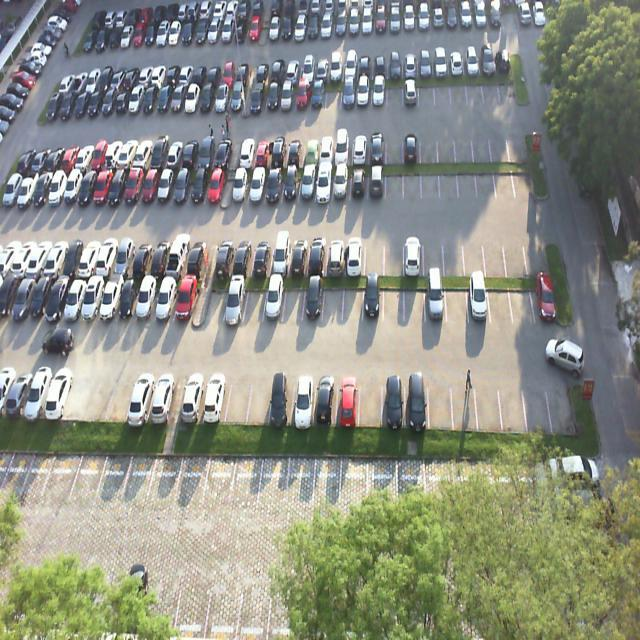space-empty: (94, 445, 132, 502), (123, 442, 158, 502), (71, 446, 106, 501), (148, 444, 182, 500), (43, 445, 78, 499), (231, 451, 264, 504), (545, 370, 576, 426), (499, 373, 528, 432), (204, 448, 238, 498), (175, 445, 208, 496), (312, 451, 342, 507), (223, 370, 254, 424), (21, 446, 55, 494), (259, 448, 290, 500), (523, 371, 550, 428), (64, 367, 93, 420), (476, 372, 502, 429), (83, 371, 112, 421), (288, 449, 314, 504), (106, 371, 134, 422), (452, 374, 479, 426), (428, 375, 454, 428), (246, 372, 272, 422), (359, 371, 382, 426), (241, 275, 265, 325), (486, 273, 511, 320), (483, 227, 507, 275), (443, 226, 466, 273), (205, 273, 225, 327), (509, 276, 532, 320), (525, 229, 548, 272), (444, 277, 467, 320), (282, 276, 302, 324), (505, 227, 526, 272), (322, 277, 343, 322), (425, 229, 445, 276), (511, 156, 534, 196), (404, 274, 424, 320), (382, 231, 404, 272), (464, 228, 484, 272), (384, 276, 402, 322), (345, 275, 362, 320), (364, 235, 383, 273), (458, 162, 478, 198), (478, 158, 496, 198), (494, 160, 514, 195), (422, 163, 440, 198), (388, 162, 404, 200), (403, 163, 420, 198), (440, 162, 458, 195)
space-occupied: (117, 271, 146, 322), (222, 272, 249, 326), (136, 267, 162, 320), (127, 370, 154, 420), (312, 372, 336, 428), (268, 373, 294, 424), (154, 274, 180, 324), (203, 370, 229, 420), (262, 270, 286, 324), (530, 270, 557, 318), (148, 374, 175, 422), (174, 272, 198, 324), (382, 371, 405, 424), (101, 270, 125, 320), (335, 373, 359, 423), (290, 372, 313, 424), (405, 374, 428, 426), (181, 373, 206, 418), (130, 236, 156, 276), (113, 238, 140, 276), (303, 276, 324, 324), (155, 165, 178, 208), (467, 275, 488, 322), (148, 237, 172, 278), (188, 164, 211, 206), (363, 276, 384, 322), (167, 238, 192, 276), (188, 239, 212, 278), (139, 165, 162, 205), (287, 234, 310, 274), (404, 226, 424, 272), (426, 276, 446, 322), (172, 165, 193, 208), (229, 238, 252, 277), (204, 166, 226, 206), (231, 164, 252, 205), (213, 239, 236, 276), (307, 234, 328, 273), (345, 231, 364, 274), (268, 236, 290, 272), (251, 235, 272, 272), (324, 235, 344, 273), (299, 166, 317, 205), (267, 166, 284, 207), (283, 164, 300, 205), (250, 166, 268, 204), (368, 162, 386, 200), (333, 165, 350, 202), (316, 166, 332, 200), (351, 164, 367, 198)
